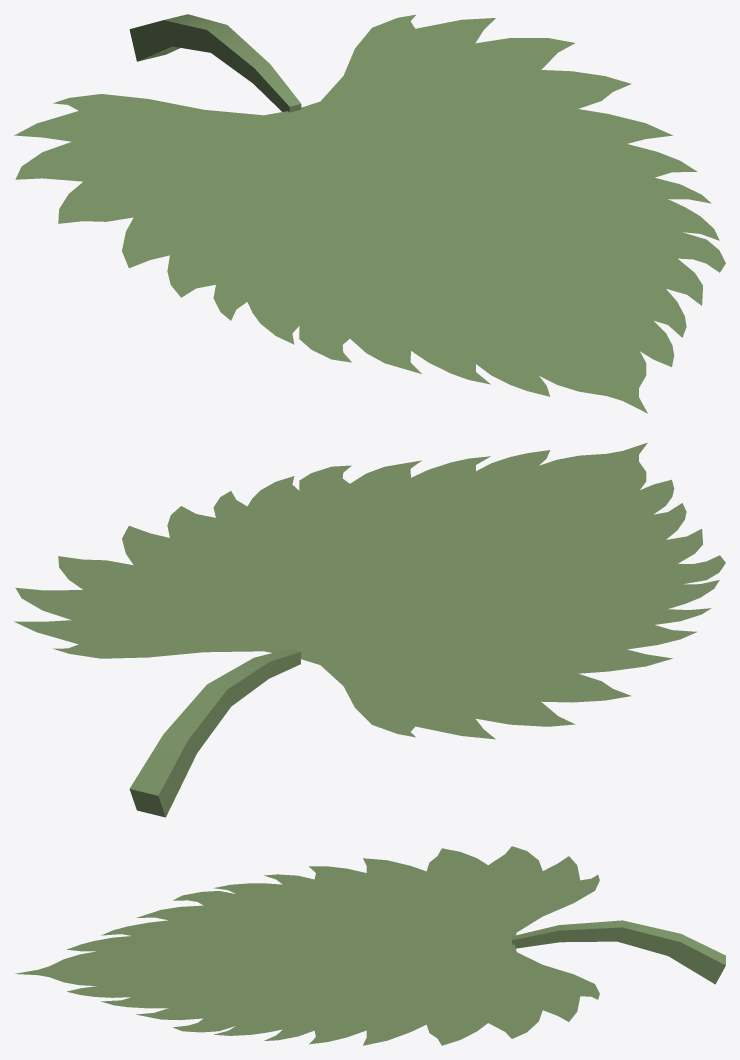
Rendered from Catnip_Leaf.fbx.
3 views of the same model, one above another, from view 1: azimuth 30°, elevation 25°; view 2: azimuth 150°, elevation 25°; view 3: azimuth 270°, elevation 25° (orthographic). The views are drawn at different scales.
Parts seen in each view (by area): view 1: Catnip_Leaf; view 2: Catnip_Leaf; view 3: Catnip_Leaf.
Boxes of the visible parts, x1=… form: Catnip_Leaf: x1=14, y1=14, x2=725, y2=413; Catnip_Leaf: x1=14, y1=442, x2=725, y2=817; Catnip_Leaf: x1=15, y1=846, x2=725, y2=1045.
Bounding box in the file's own units: 4.14 × 0.545 × 6.31.
